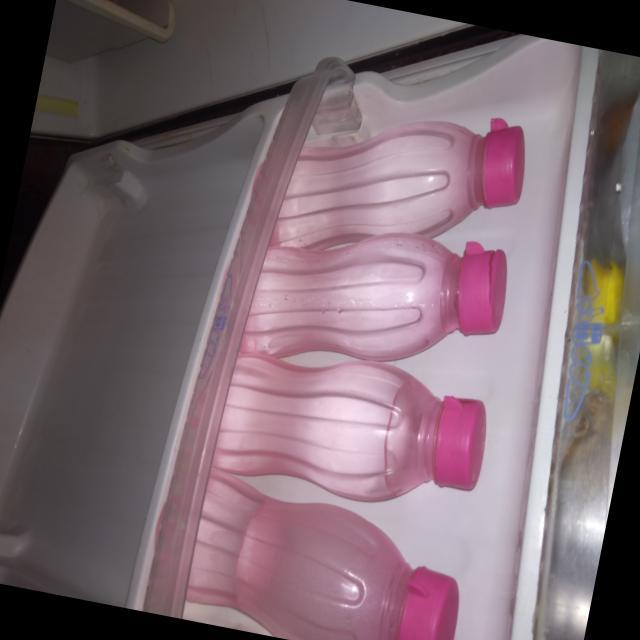good: (216, 179, 524, 409), (242, 63, 536, 300), (183, 329, 500, 526), (141, 460, 479, 640)
